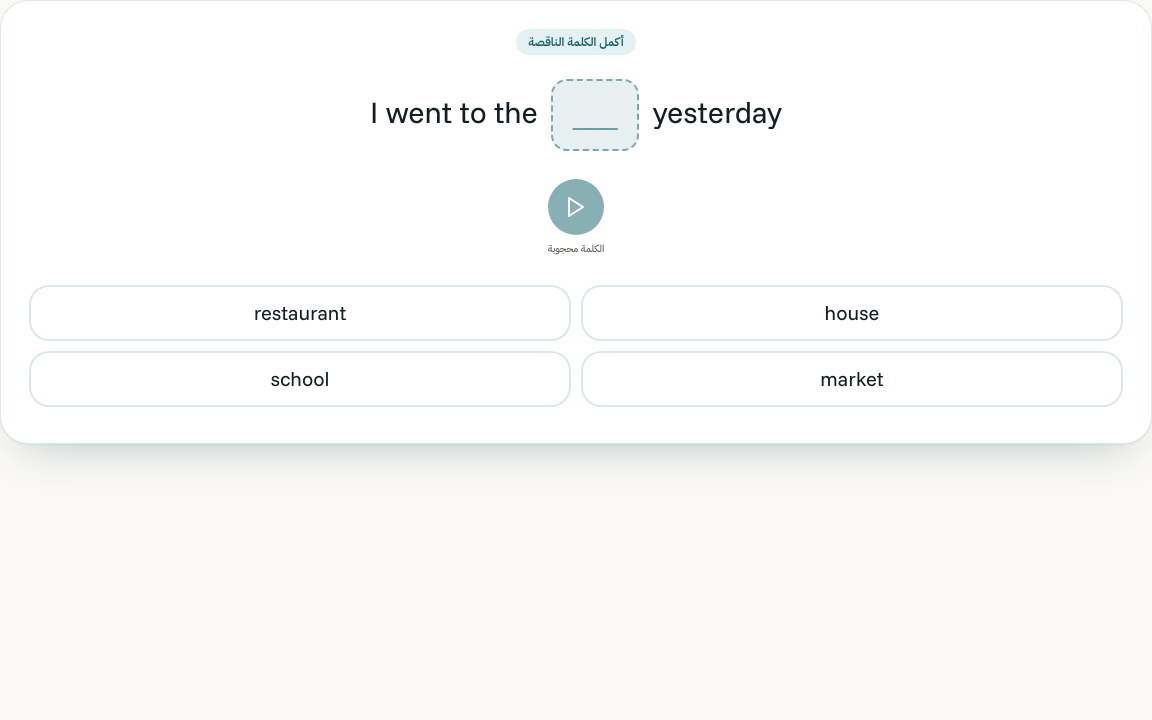
Test: the sentence translation › stays behind a tap
Step 1. Click the button "market" → (852, 379), box [581, 351, 1123, 407]
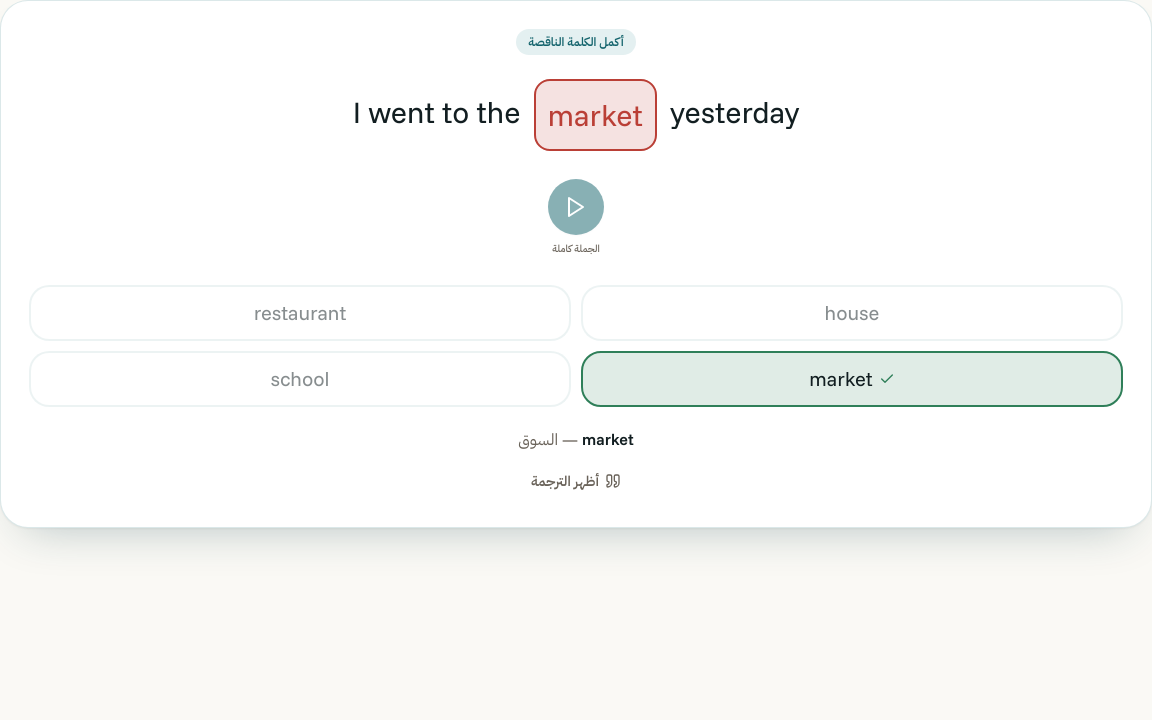
expect the button "أظهر الترجمة" is shown: met, box [517, 463, 635, 499]
